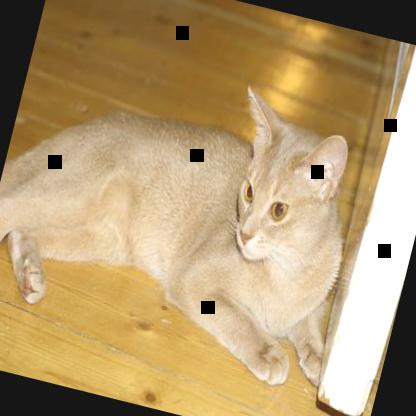cat: (0, 33, 386, 399)
